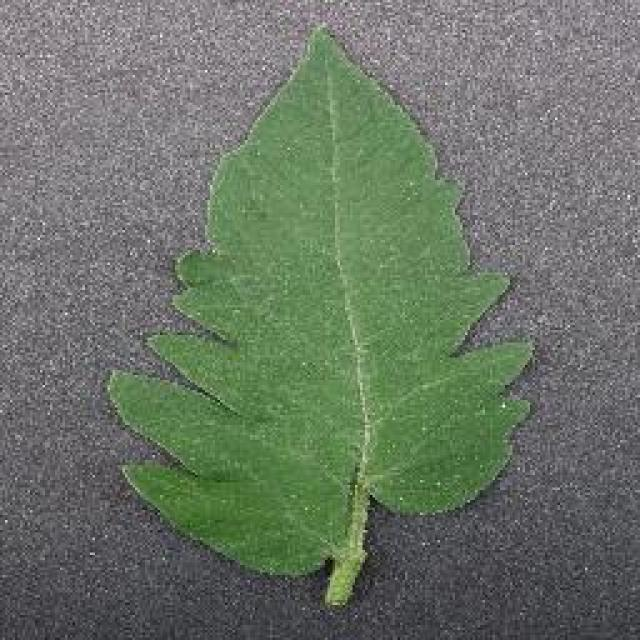Tomato___healthy: (106, 27, 540, 604)
